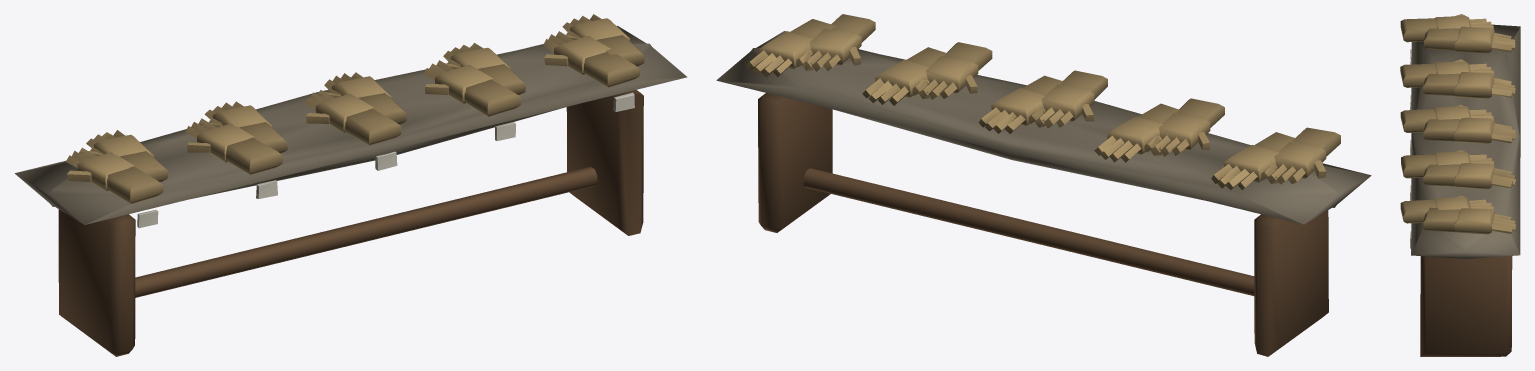
File: glove_bench_a.glb
The picture shows the model from 3 angles, left to right: view 1: azimuth 30°, elevation 25°; view 2: azimuth 150°, elevation 25°; view 3: azimuth 270°, elevation 25°; orthographic projection. The views are drawn at different scales.
Visible parts, largest first — view 1: Surface; view 2: Surface; view 3: Surface.
Part boxes in pixels (x1=…): Surface: x1=15, y1=14, x2=687, y2=356; Surface: x1=716, y1=14, x2=1371, y2=356; Surface: x1=1400, y1=14, x2=1520, y2=356.
Bounding box in the file's own units: 1.9 × 0.5448 × 0.4211.
